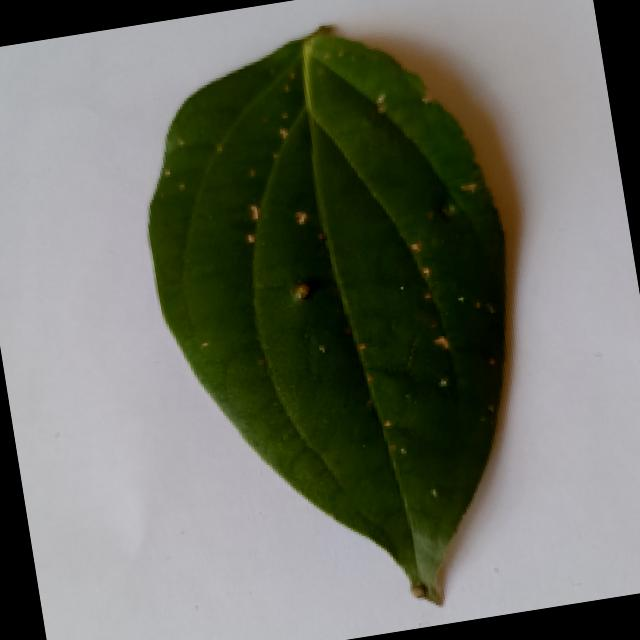pollu-disease: (118, 7, 581, 634)
